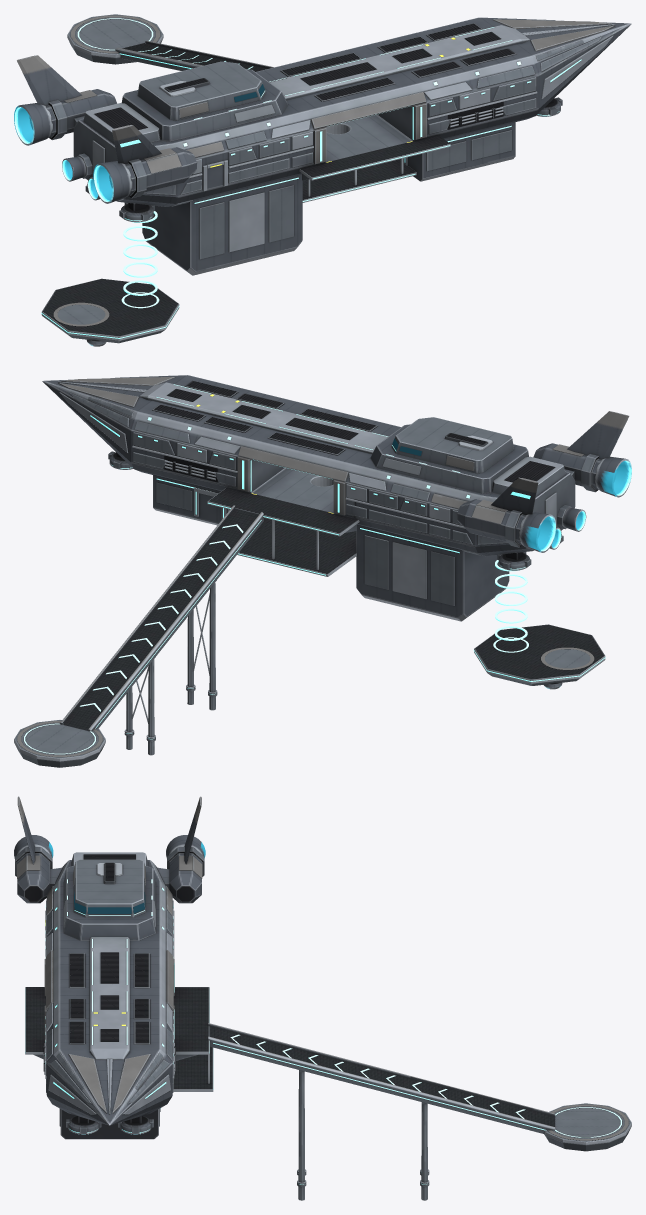
3 renders of one model, top to bottom at view 1: azimuth 30°, elevation 25°; view 2: azimuth 150°, elevation 25°; view 3: azimuth 270°, elevation 25°, orthographic. The views are drawn at different scales.
Parts seen in each view (by area): view 1: hull; view 2: hull; view 3: hull.
Boxes of the visible parts, x1,y1,x2,y2 form: hull: [14, 14, 631, 346]; hull: [14, 375, 631, 767]; hull: [14, 796, 631, 1200].
Size of the model in its own units: 83.03 by 37.05 by 80.46.
1 material, 1 textured.
